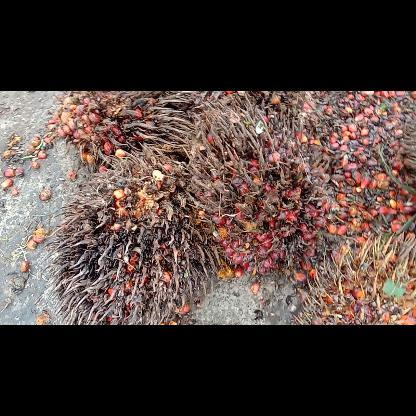Terlalu masak: (167, 91, 343, 283), (43, 144, 227, 324), (46, 91, 200, 163)
